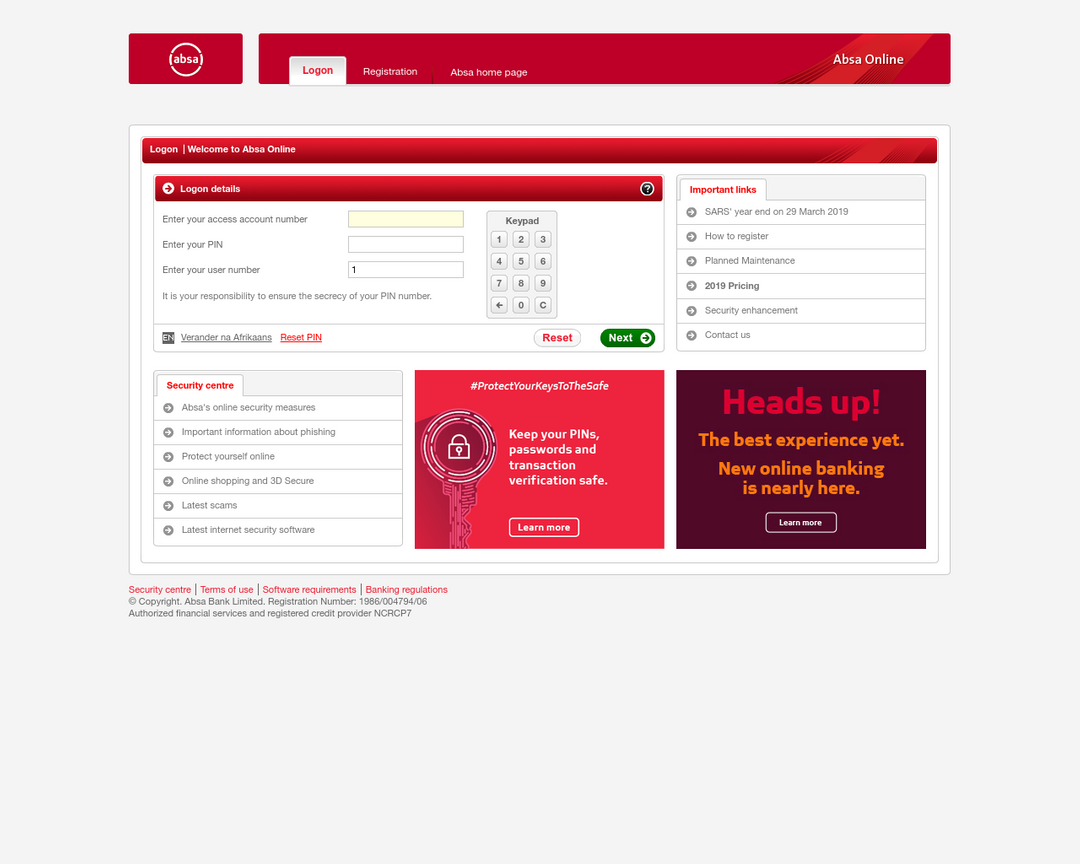ABSA: (169, 42, 205, 79)
